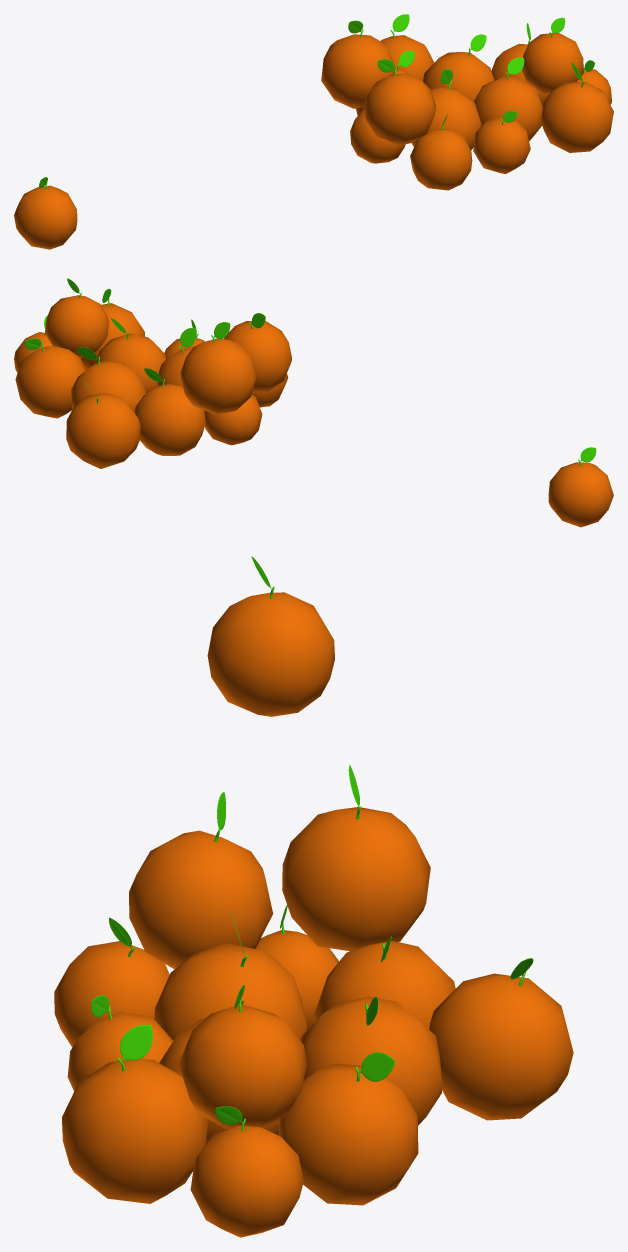
The model's file is Orange.fbx.
The picture shows the model from 3 angles, top to bottom: view 1: azimuth 30°, elevation 25°; view 2: azimuth 150°, elevation 25°; view 3: azimuth 270°, elevation 25°; orthographic projection. The views are drawn at different scales.
Parts seen in each view (by area): view 1: OrangeGroup, OrangeSingle; view 2: OrangeGroup, OrangeSingle; view 3: OrangeGroup, OrangeSingle.
Boxes of the visible parts, <box> form: OrangeGroup: <box>321,14,613,190</box>; OrangeSingle: <box>14,177,77,249</box>; OrangeGroup: <box>14,278,291,468</box>; OrangeSingle: <box>548,447,613,527</box>; OrangeGroup: <box>54,765,573,1237</box>; OrangeSingle: <box>207,556,334,716</box>.
Size of the model in its own units: 127 by 27.62 by 49.14.
